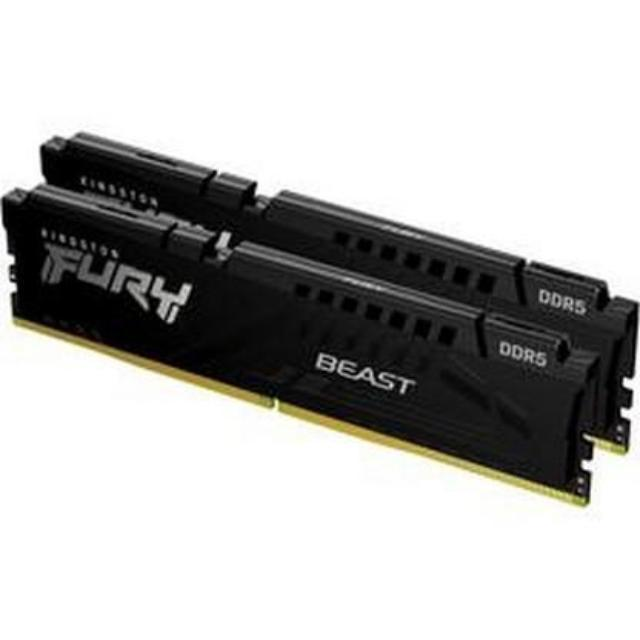RAM: (0, 124, 640, 508)
